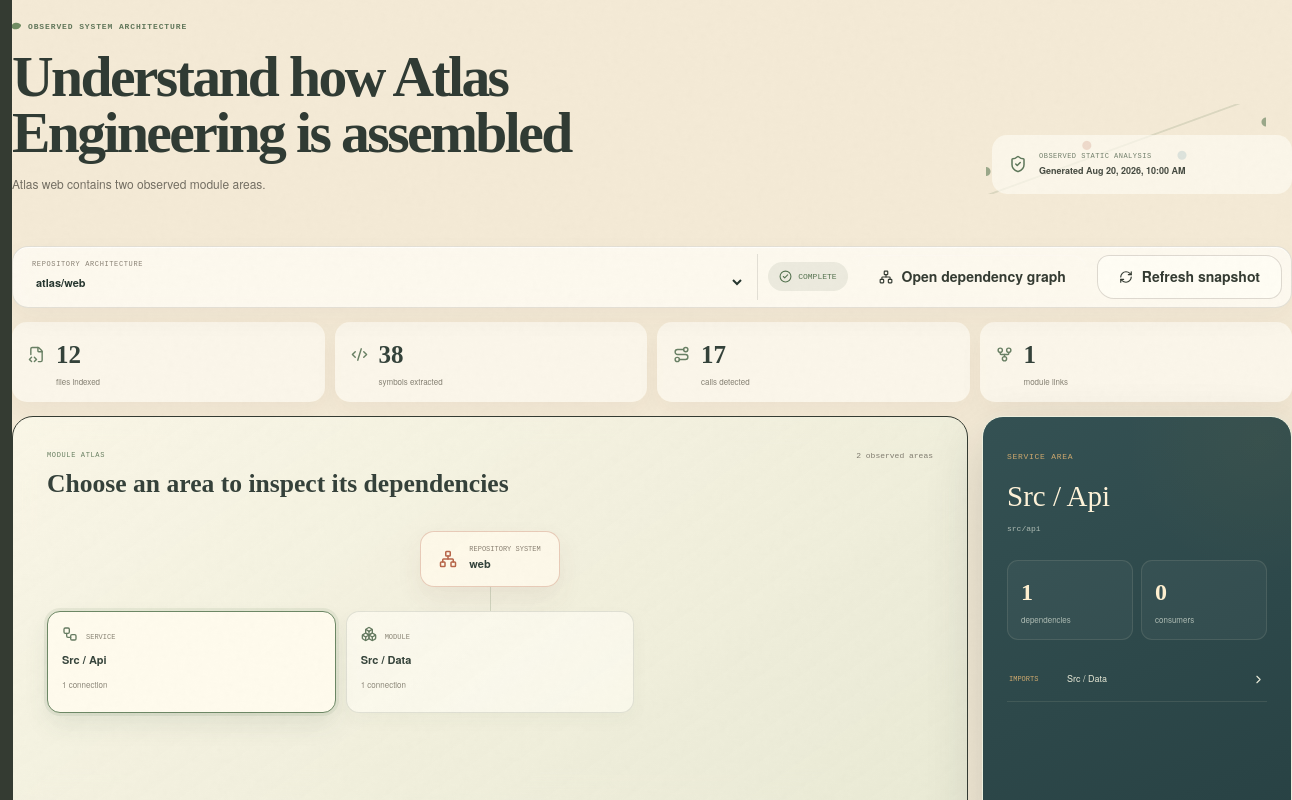
engineering explorer › turns the architecture snapshot into an inspectable module and reading map
Expected: the heading "Understand how Atlas Engineering is assembled" is shown, [12,45,571,164]
Expected: the text "12" is shown, [56,341,81,368]
Click the button "module Src / Data 1 connection".
click(386, 660)  # box [346,611,634,713]
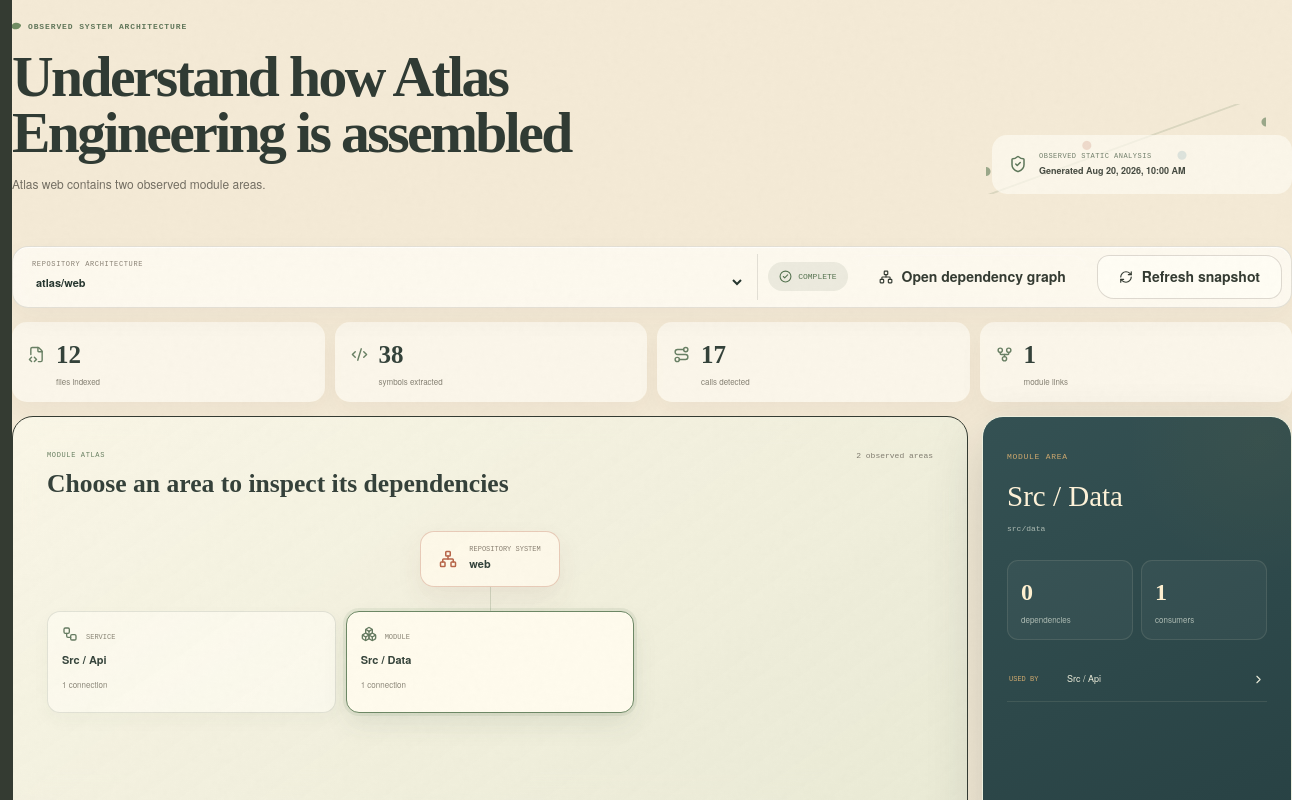
Expected: the heading "Src / Data" is shown, [1007,480,1123,512]
Expected: the text "Used by" is shown, [1009,675,1038,683]
